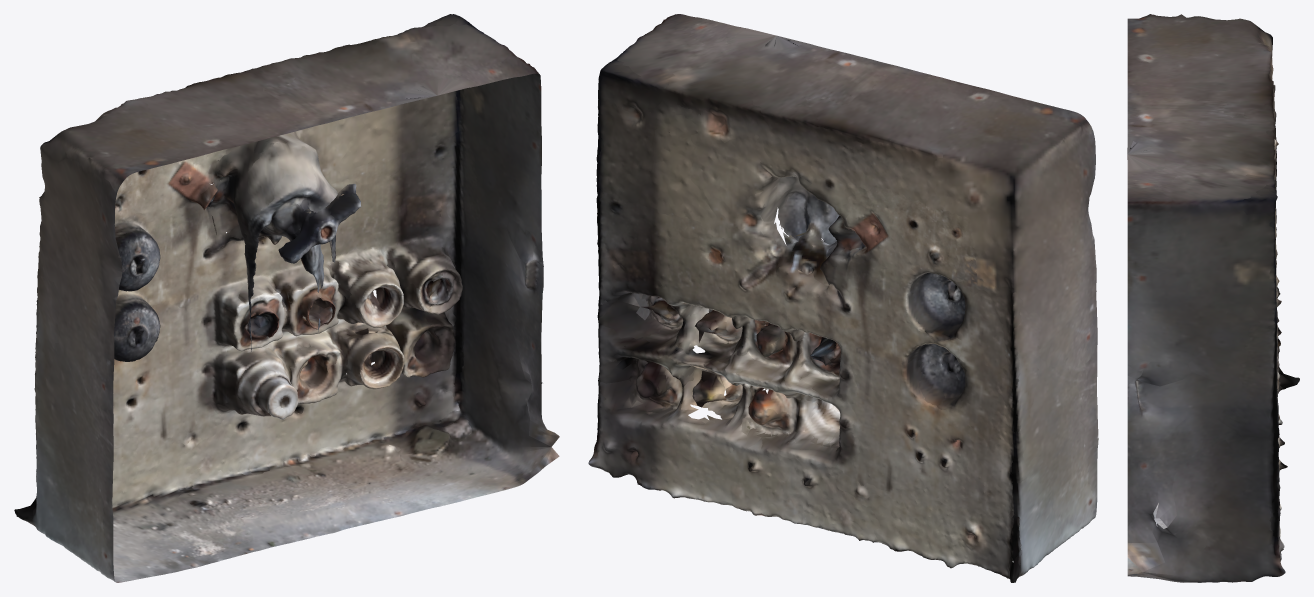
File: control box.fbx
3 renders of one model, left to right at view 1: azimuth 30°, elevation 25°; view 2: azimuth 150°, elevation 25°; view 3: azimuth 270°, elevation 25°, orthographic. The views are drawn at different scales.
Parts seen in each view (by area): view 1: mesh; view 2: mesh; view 3: mesh.
Part boxes in pixels (x1,y1,x2,y2): mesh: (14, 14, 559, 582); mesh: (588, 14, 1098, 582); mesh: (1127, 14, 1299, 582).
Bounding box in the file's own units: 43.26 × 37.81 × 15.3.
Materials: 1 (1 with a texture image).
